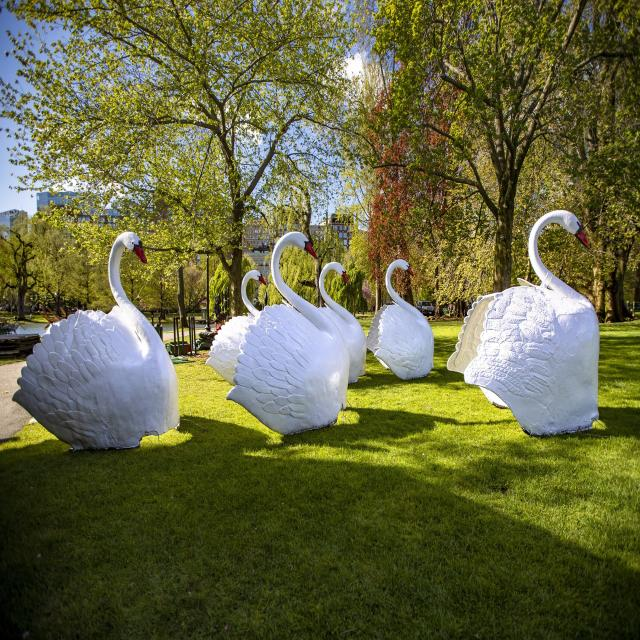swan: (13, 232, 179, 450), (447, 210, 599, 435), (227, 232, 349, 435), (367, 259, 434, 380), (206, 270, 265, 385), (318, 262, 367, 384)
